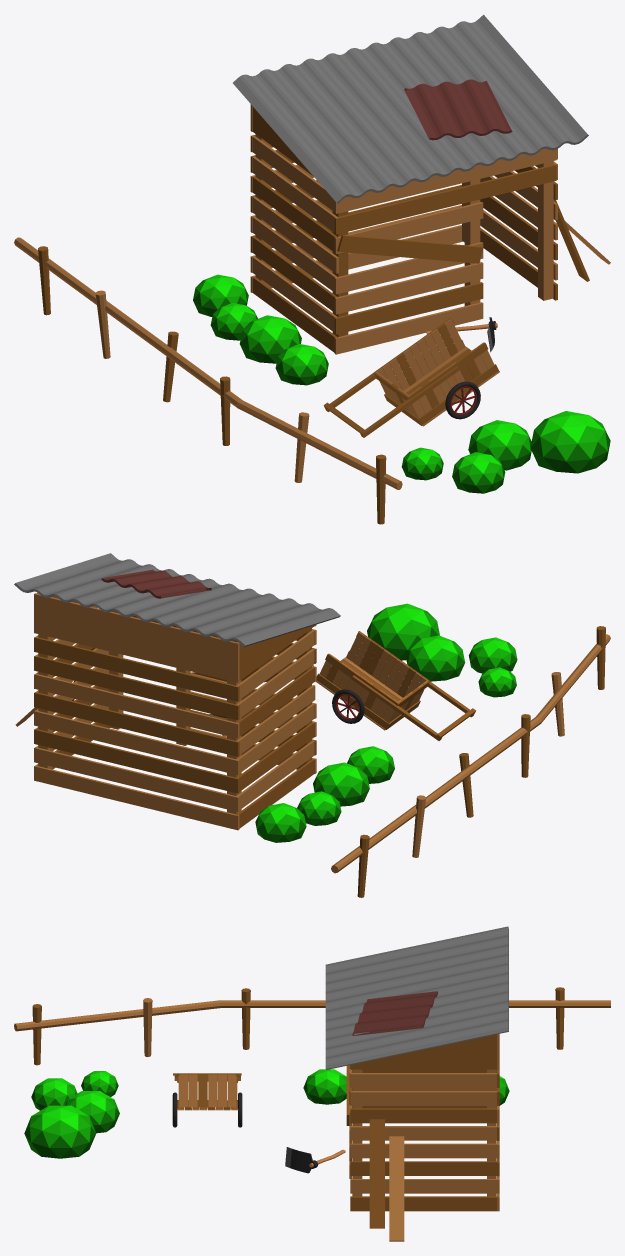
Rendered from tool_shed_1.glb.
3 views of the same model, one above another, from view 1: azimuth 30°, elevation 25°; view 2: azimuth 150°, elevation 25°; view 3: azimuth 270°, elevation 25° (orthographic). The views are drawn at different scales.
Parts seen in each view (by area): view 1: atap seng, depan, kiri, gerobak, kanan, atap seng_2, Cylinder, Icosphere.007, Circle, belakang, Icosphere.006, Icosphere.002 (+7 smaller); view 2: belakang, atap seng, kiri, gerobak, Cylinder, Circle, Icosphere.007, Icosphere.006, Icosphere.002, atap seng_2, Icosphere, depan (+5 smaller); view 3: kanan, atap seng, Cylinder, Icosphere.007, gerobak, atap seng_2, Circle, papan pinggir 1, papan pinggir 2, Icosphere.006, Icosphere.003, kiri (+5 smaller).
Part boxes in pixels (box(x1,y1,x2,y2)): atap seng: box(233, 14, 588, 203); depan: box(334, 148, 556, 354); kiri: box(252, 106, 338, 352); gerobak: box(323, 318, 499, 437); kanan: box(480, 149, 557, 300); atap seng_2: box(404, 79, 512, 140); Cylinder: box(14, 237, 402, 489); Icosphere.007: box(530, 411, 610, 473); Circle: box(38, 246, 386, 524); belakang: box(250, 104, 462, 292); Icosphere.006: box(468, 420, 531, 470); Icosphere.002: box(239, 315, 301, 363); belakang: box(34, 593, 239, 830); atap seng: box(14, 553, 340, 646); kiri: box(235, 625, 315, 828); gerobak: box(316, 631, 475, 740); Cylinder: box(331, 634, 610, 873); Circle: box(357, 626, 605, 897); Icosphere.007: box(367, 603, 439, 660); Icosphere.006: box(406, 635, 465, 681); Icosphere.002: box(313, 762, 369, 806); atap seng_2: box(101, 569, 211, 598); Icosphere: box(255, 803, 306, 842); depan: box(132, 616, 316, 773); kanan: box(350, 1034, 498, 1211); atap seng: box(325, 926, 508, 1069); Cylinder: box(14, 1000, 610, 1031); Icosphere.007: box(24, 1105, 96, 1158); gerobak: box(172, 1073, 242, 1127); atap seng_2: box(352, 991, 437, 1035); Circle: box(32, 987, 564, 1065); papan pinggir 1: box(369, 1119, 384, 1228); papan pinggir 2: box(389, 1136, 404, 1241); Icosphere.006: box(65, 1091, 119, 1133); Icosphere.003: box(303, 1069, 346, 1104); kiri: box(362, 1069, 496, 1108).
Bounding box in the file's own units: 4.28 × 1.9 × 5.29.
